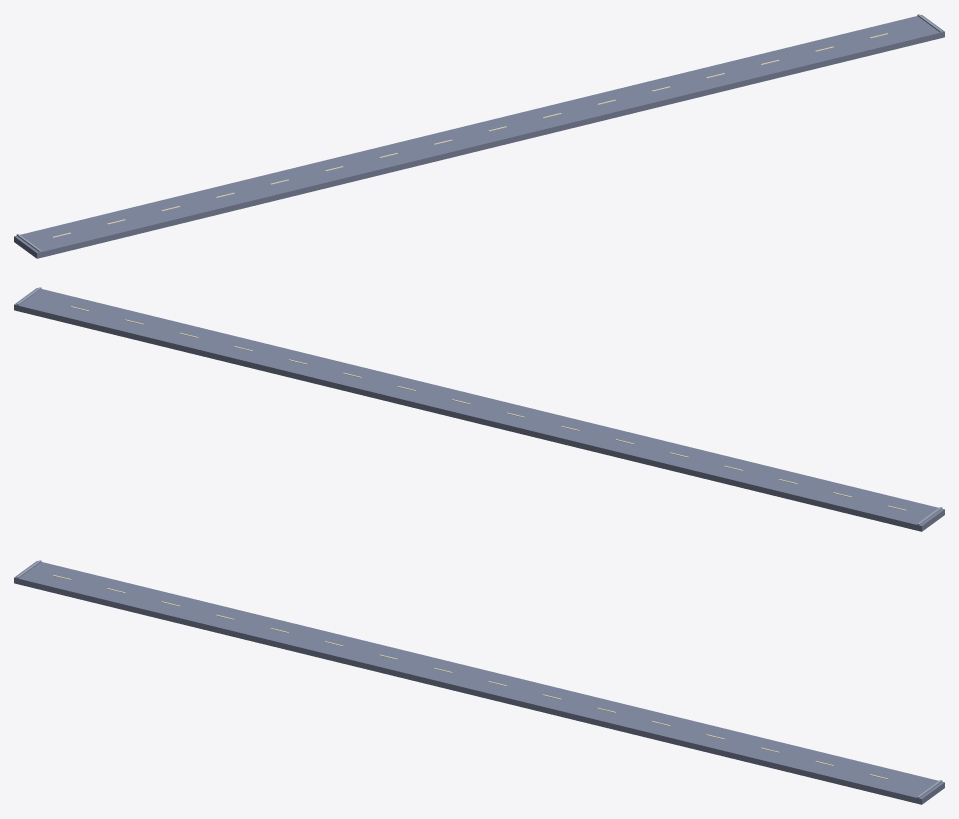
Rendered from autopista_trasera.glb.
3 renders of one model, top to bottom at view 1: azimuth 30°, elevation 25°; view 2: azimuth 150°, elevation 25°; view 3: azimuth 330°, elevation 25°, orthographic.
Parts seen in each view (by area): view 1: autopista_trasera; view 2: autopista_trasera; view 3: autopista_trasera.
Boxes of the visible parts, x1,y1,x2,y2 form: autopista_trasera: (14,14,944,258); autopista_trasera: (14,287,944,531); autopista_trasera: (14,560,944,804).
Bounding box in the file's own units: 50 × 0.37 × 2.2.
